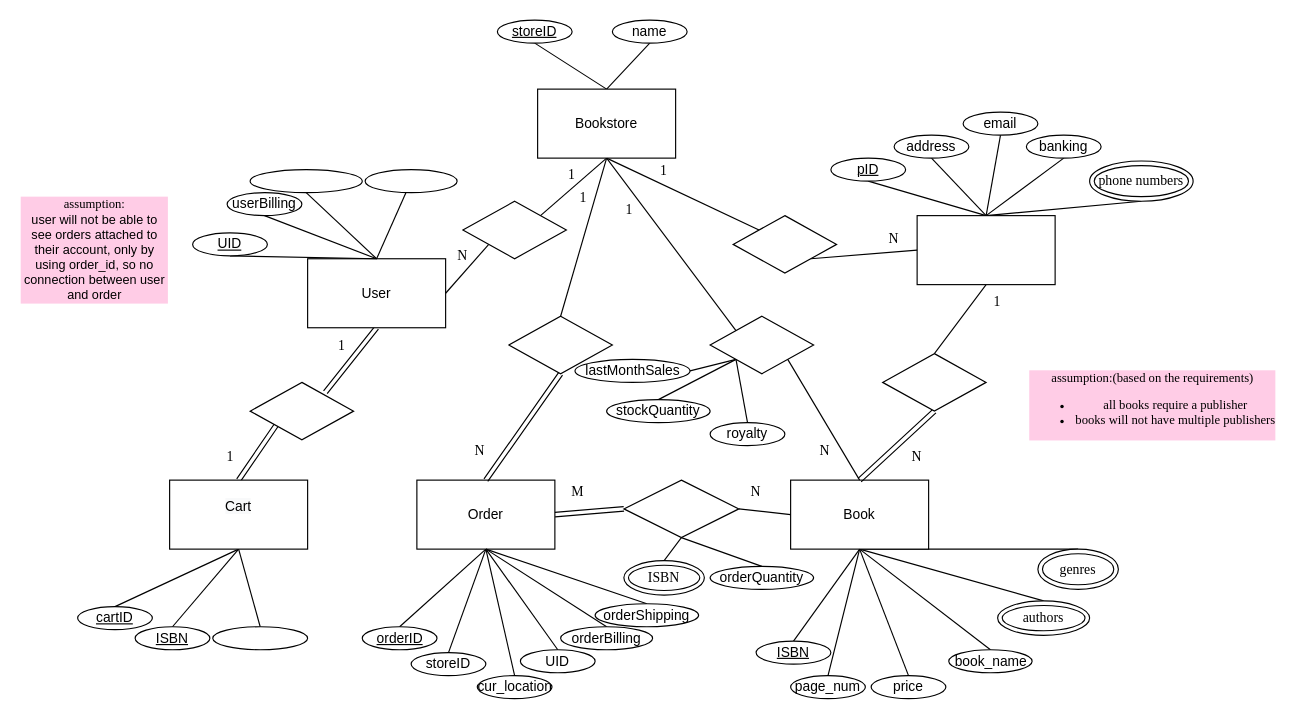
The diagram is 1304 pixels wide and 719 high, and some of its shapes have lost their labels. The shapes that lost their labels are listed below. From the top down, each one's box as (x1, y1, x2, y2) in pixels, then its label:
(249, 168, 362, 193): userShipping
(364, 168, 457, 193): account_type
(462, 200, 566, 259): registered
(732, 214, 837, 273): has_publishers
(916, 214, 1055, 285): Publisher
(508, 315, 612, 374): has_orders
(709, 315, 814, 374): stock
(881, 352, 986, 411): publishes
(249, 381, 354, 440): has_cart
(623, 479, 739, 538): order_contents
(212, 626, 308, 650): cartQuantity
